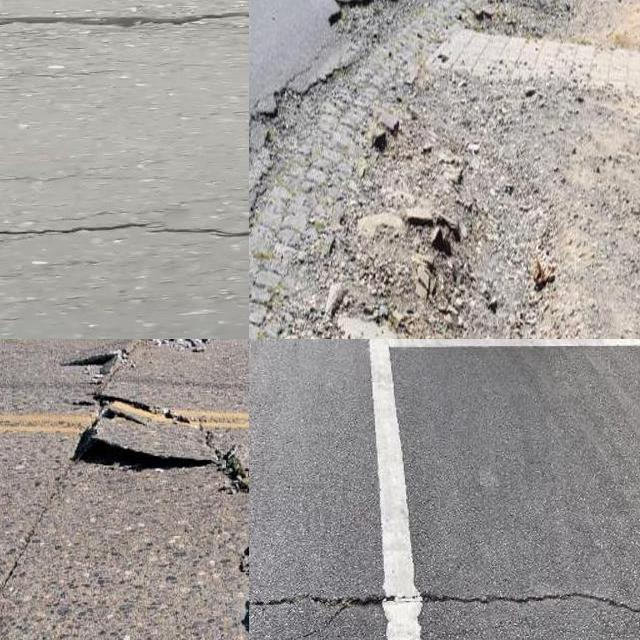Melintang: (249, 579, 640, 631), (0, 4, 249, 44), (0, 212, 249, 248)
Memanjang: (65, 339, 249, 640)
Pinggir: (249, 0, 505, 339)
